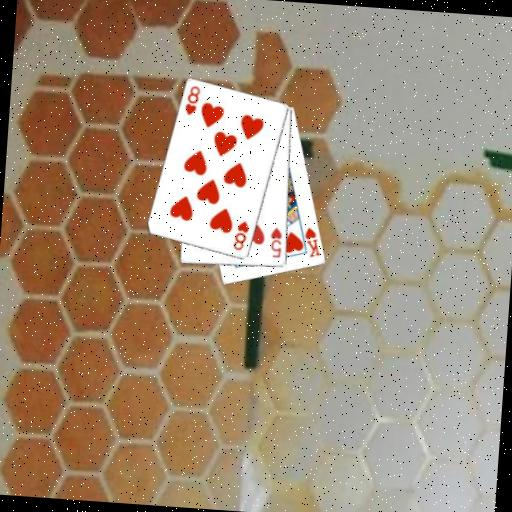5H: (267, 224, 285, 260)
8H: (230, 218, 251, 253), (182, 83, 202, 118)
KH: (300, 225, 324, 260)
